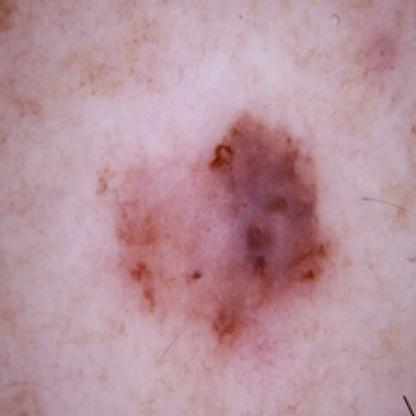Skin_Cancer-Malignant: (116, 110, 341, 347)
